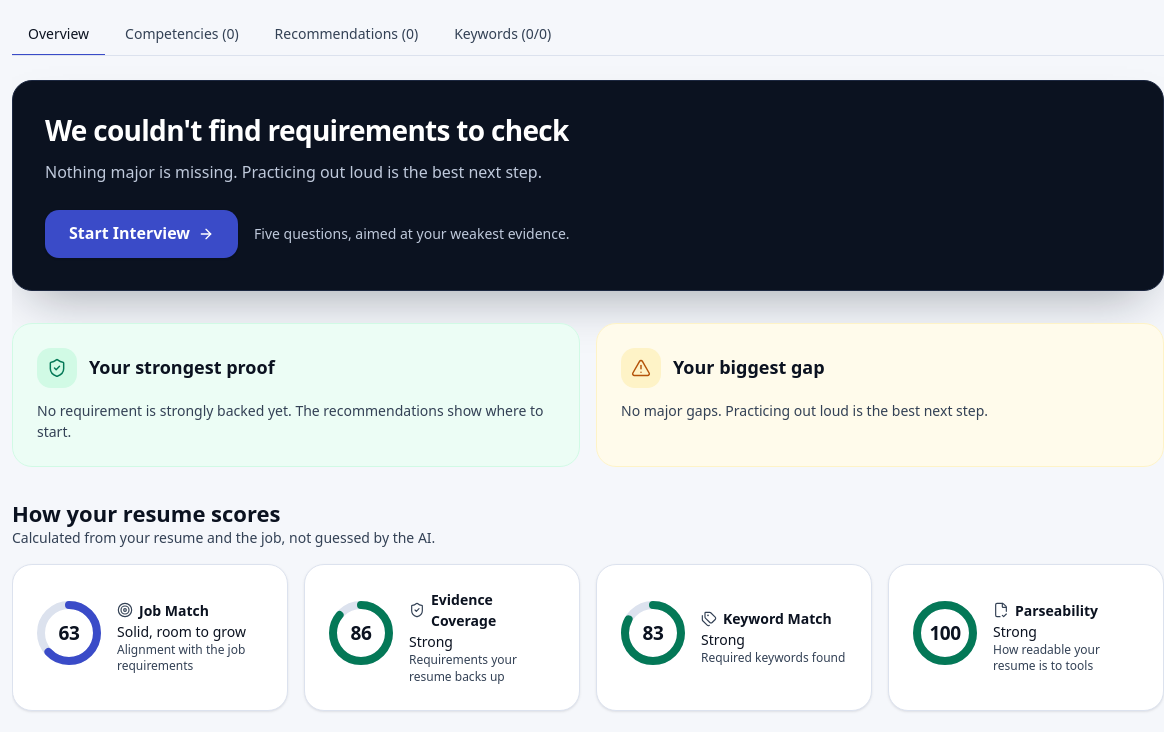
Scenario: AnalysisWorkspace empty states › shows empty states when there are no competencies or keywords
Click the tab "Competencies (0)": {"x": 182, "y": 34} x1=109 y1=12 x2=255 y2=56
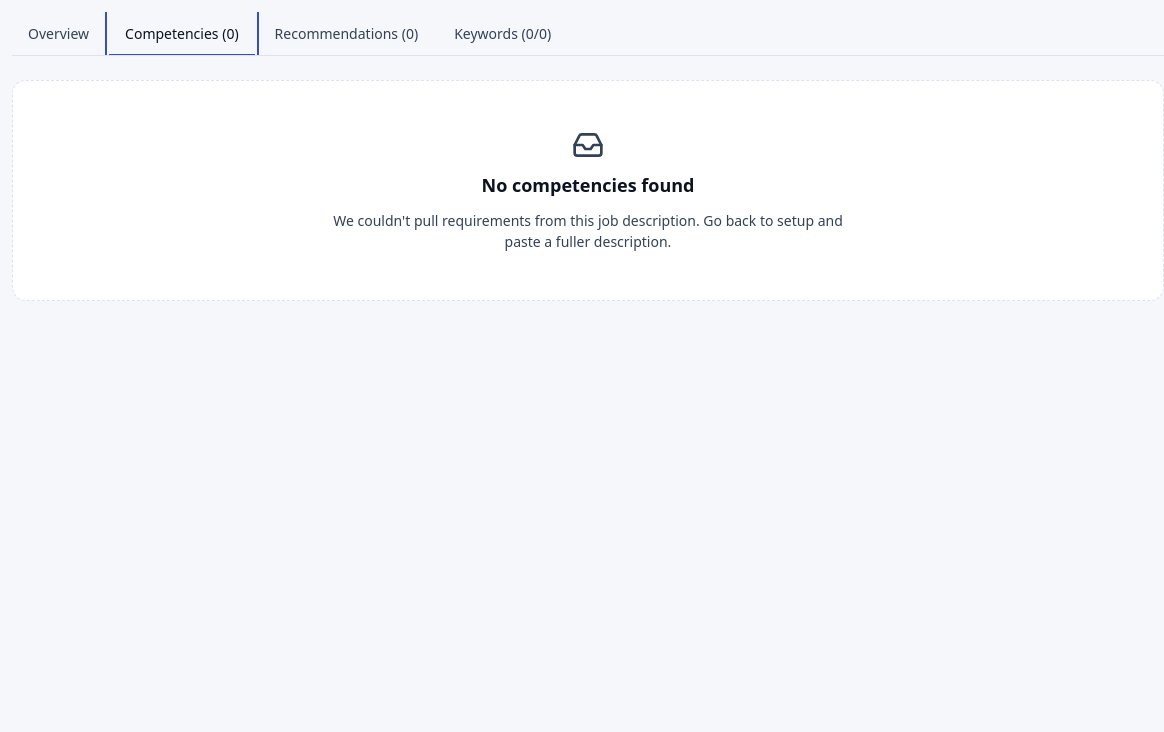
Expected: the heading "No competencies found" is shown, x1=482 y1=173 x2=694 y2=198
Click the tab "Keywords (0/0)": {"x": 503, "y": 34} x1=438 y1=12 x2=567 y2=56
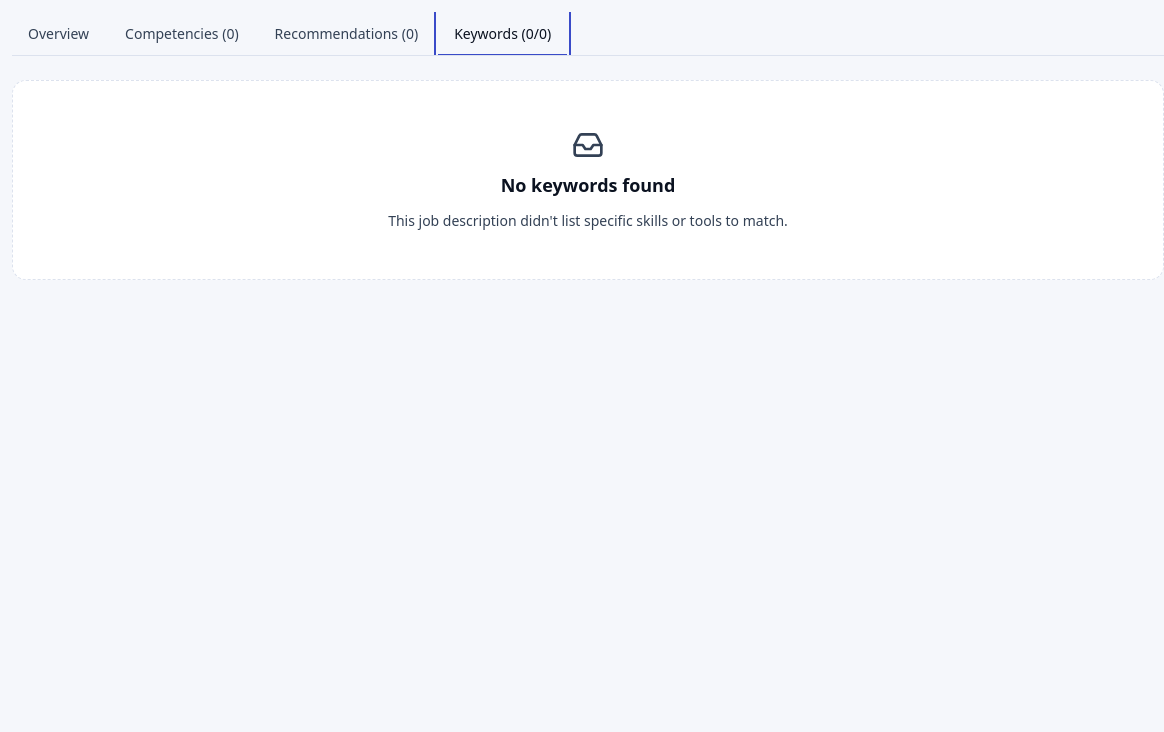
Expected: the heading "No keywords found" is shown, x1=501 y1=173 x2=675 y2=198
